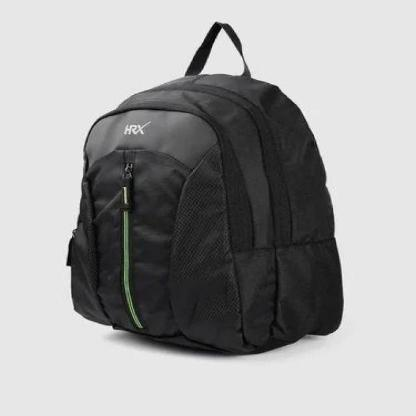bag: (58, 49, 351, 360)
